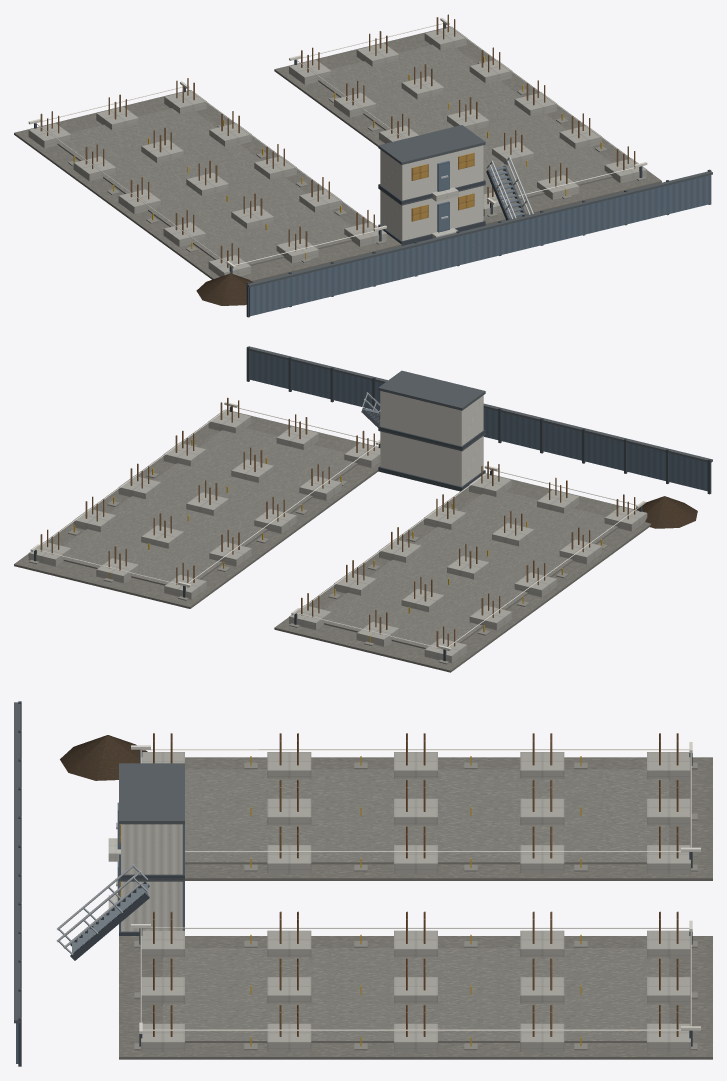
The model's file is el-4-site.glb.
3 renders of one model, top to bottom at view 1: azimuth 30°, elevation 25°; view 2: azimuth 150°, elevation 25°; view 3: azimuth 270°, elevation 25°, orthographic. The views are drawn at different scales.
Bounding box in the file's own units: 35.29 × 6.02 × 31.77.
19 materials, 9 textured.
